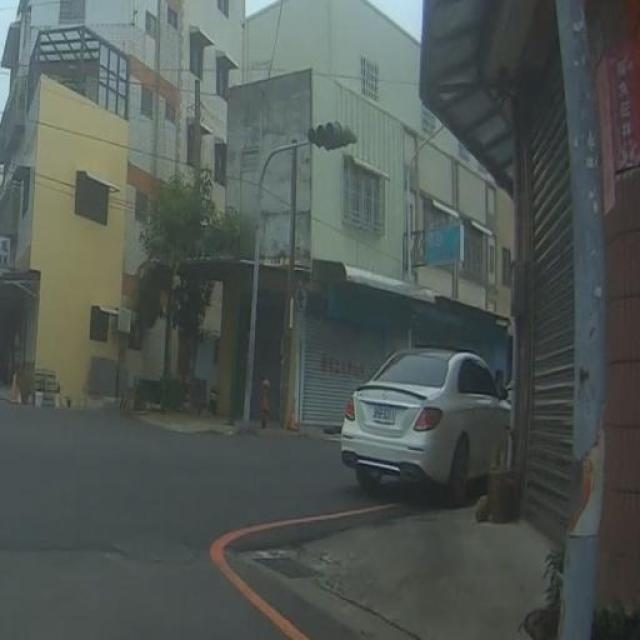illegalparking: (341, 348, 508, 504)
